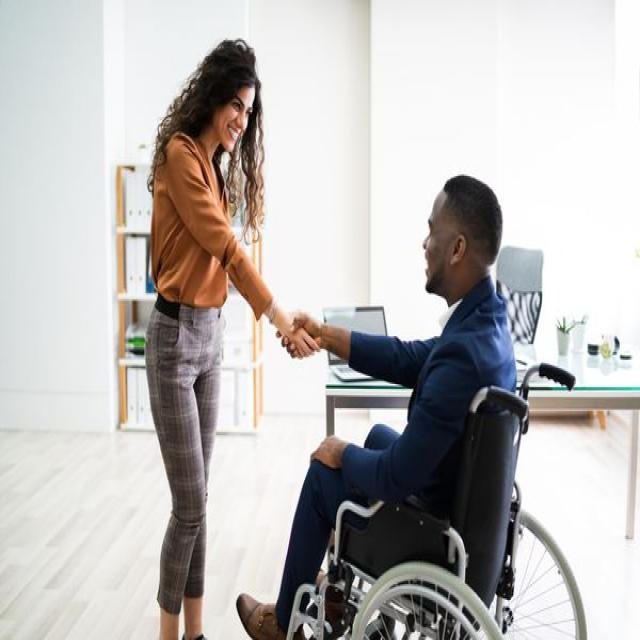wheelchairs: (266, 357, 600, 640)
